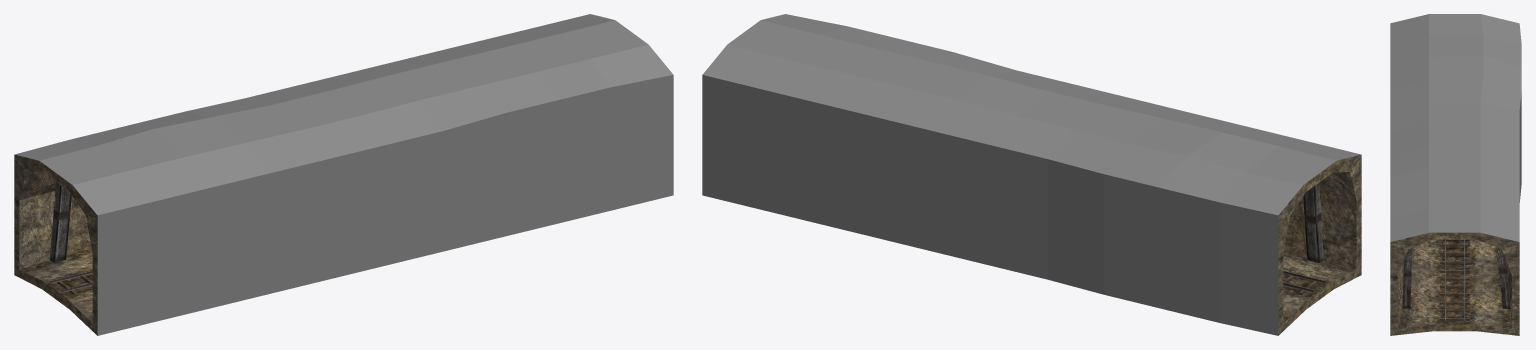
Rendered from svgoldmine01.dae.
The picture shows the model from 3 angles, left to right: view 1: azimuth 30°, elevation 25°; view 2: azimuth 150°, elevation 25°; view 3: azimuth 270°, elevation 25°; orthographic projection. The views are drawn at different scales.
Visible parts, largest first — view 1: unnamed_object1_sep1182-0, unnamed_object1_sep1039-0; view 2: unnamed_object1_sep1182-0, unnamed_object1_sep1039-0; view 3: unnamed_object1_sep1182-0, unnamed_object1_sep789-0, unnamed_object1_sep1039-0.
Boxes of the visible parts, <box> form: unnamed_object1_sep1182-0: <box>14,14,673,335</box>; unnamed_object1_sep1039-0: <box>49,182,71,262</box>; unnamed_object1_sep1182-0: <box>702,14,1361,335</box>; unnamed_object1_sep1039-0: <box>1303,183,1323,262</box>; unnamed_object1_sep1182-0: <box>1390,14,1521,335</box>; unnamed_object1_sep789-0: <box>1440,239,1469,322</box>; unnamed_object1_sep1039-0: <box>1402,247,1510,309</box>.
Bounding box in the file's own units: 6000 × 1344 × 1525.
